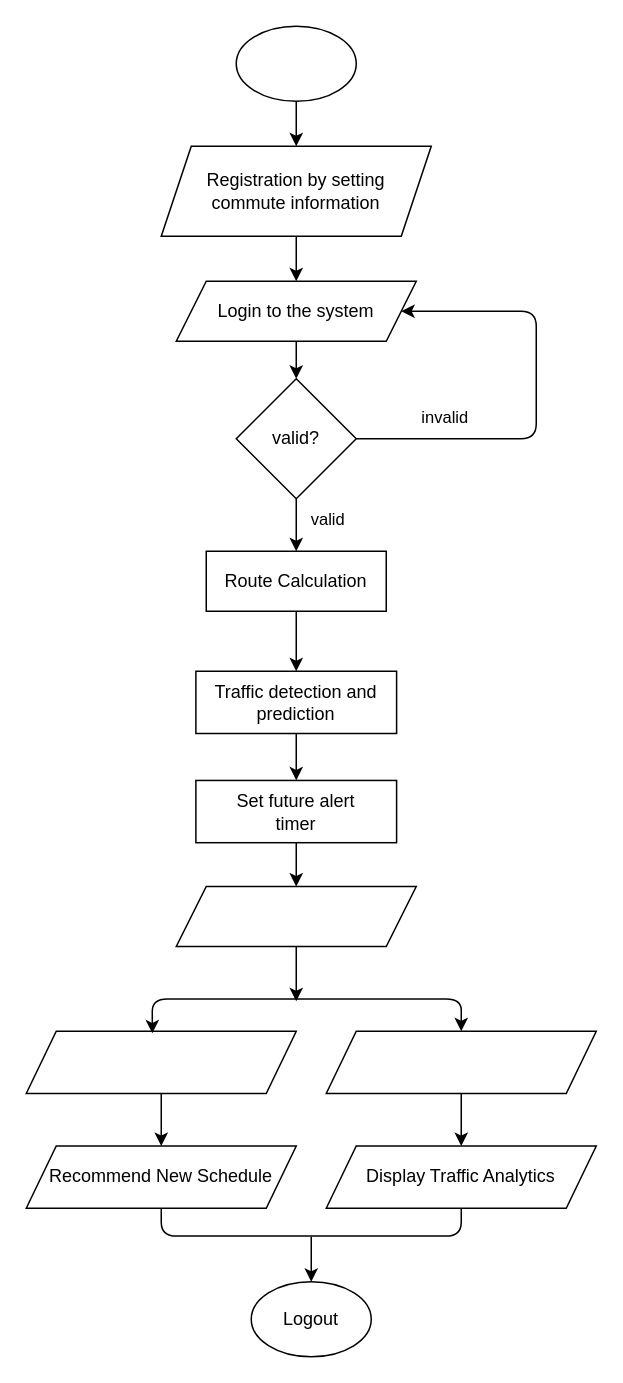
Some shapes in this 623 by 1383 pixel diagram are drawn without their labels. Here are the shapes that lost their labels. From the top down, the centre of each, then its label:
At pixel 295 63: "Start".
At pixel 295 915: "Alert and Route Suggest".
At pixel 160 1062: "Request Optimal Schedule".
At pixel 460 1062: "Request Traffic Analytics".
